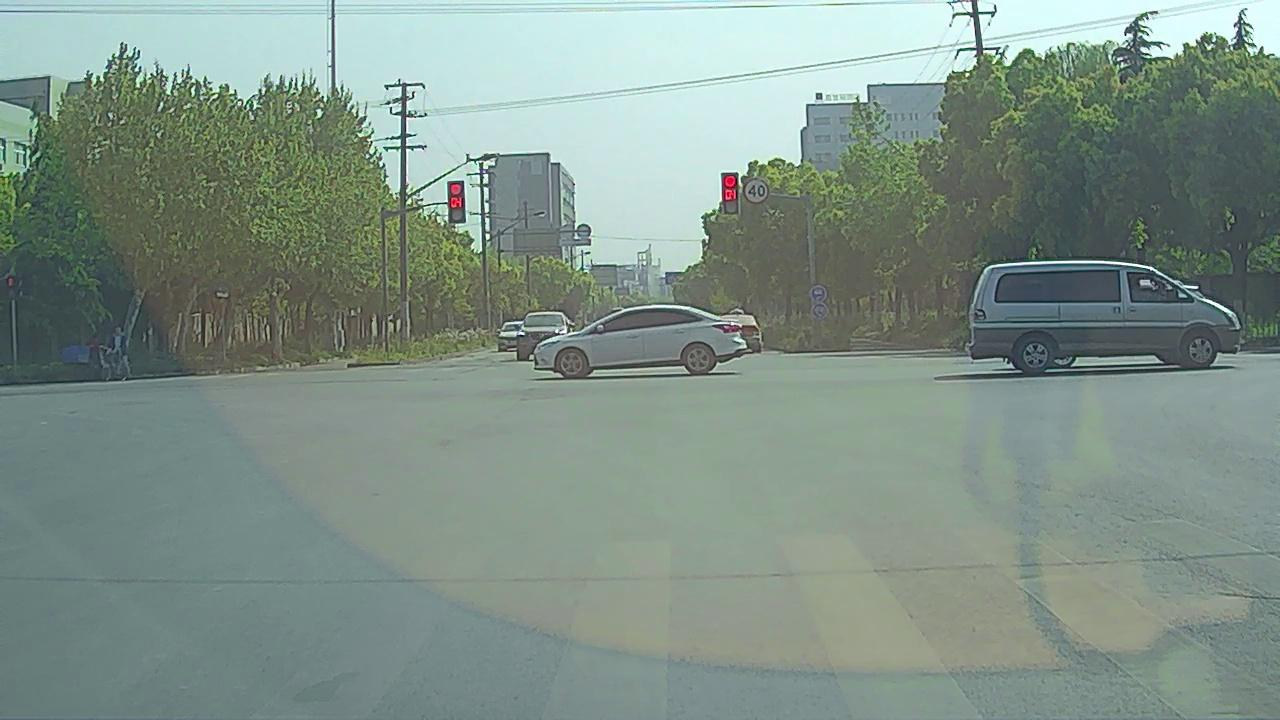traffic_light: (448, 182, 465, 221), (723, 173, 738, 213)
